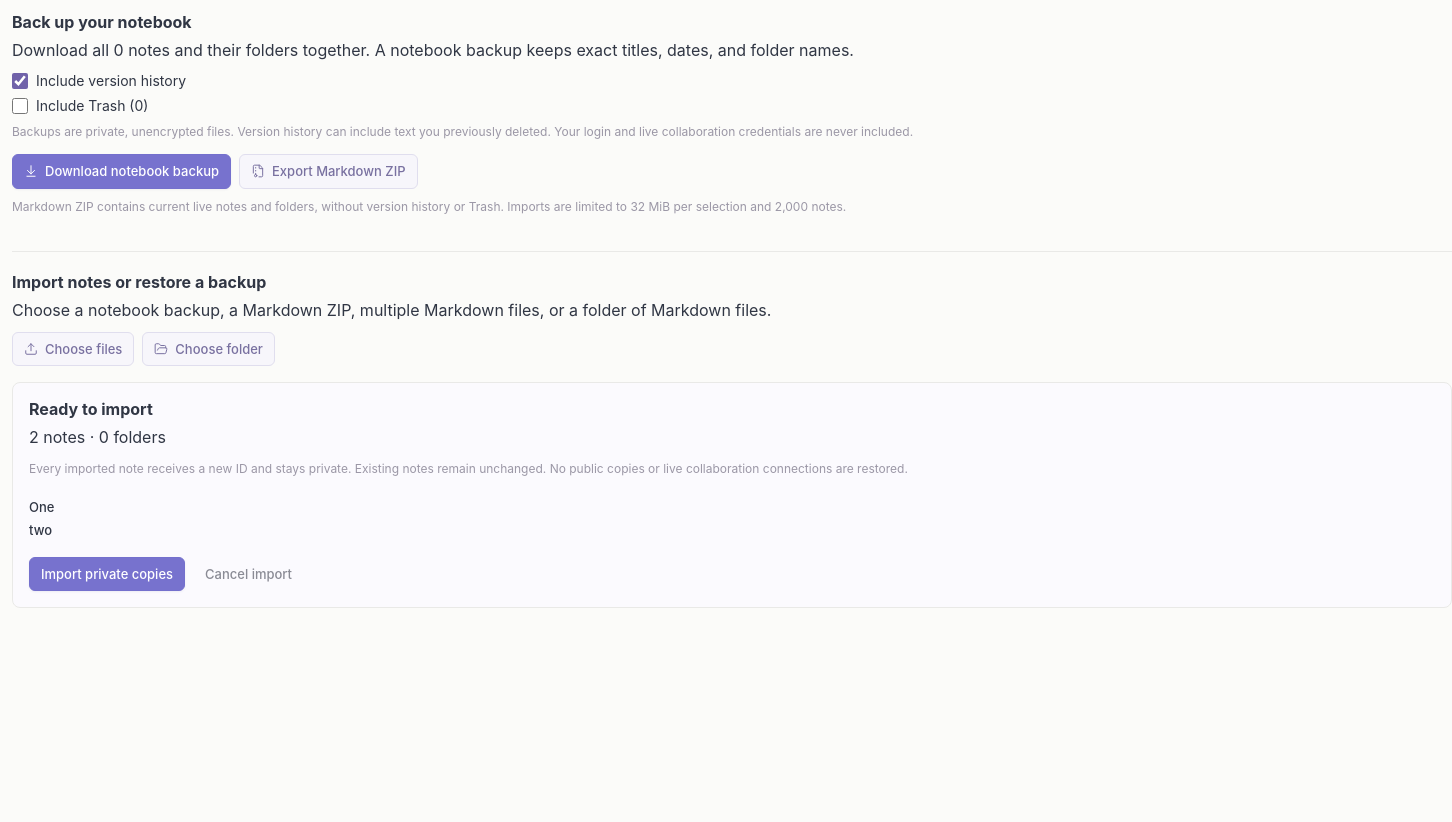
notebook backup panel › previews all selected Markdown files and requires an explicit import action
Earlier steps of the test are not shown.
Expected: the element named "Import preview" shows "2 notes", 12,382 -> 1451,608
Expected: the element named "Import preview" shows "One", 29,498 -> 54,514
Click the button "Import private copies" at coordinates (107, 574), box 29,556 -> 185,591
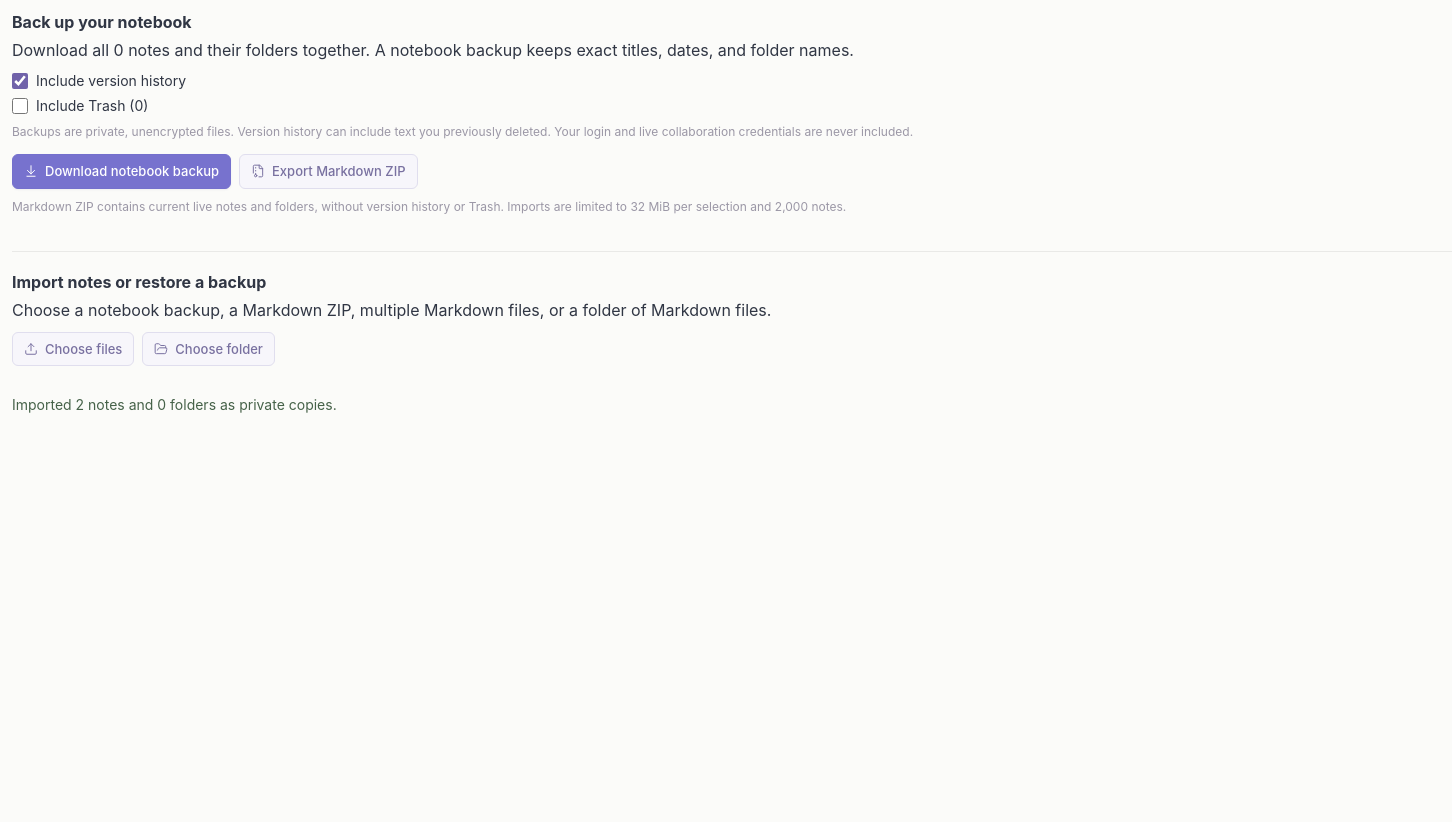
Expected: the message shows "Imported 2 notes", 12,396 -> 337,413
